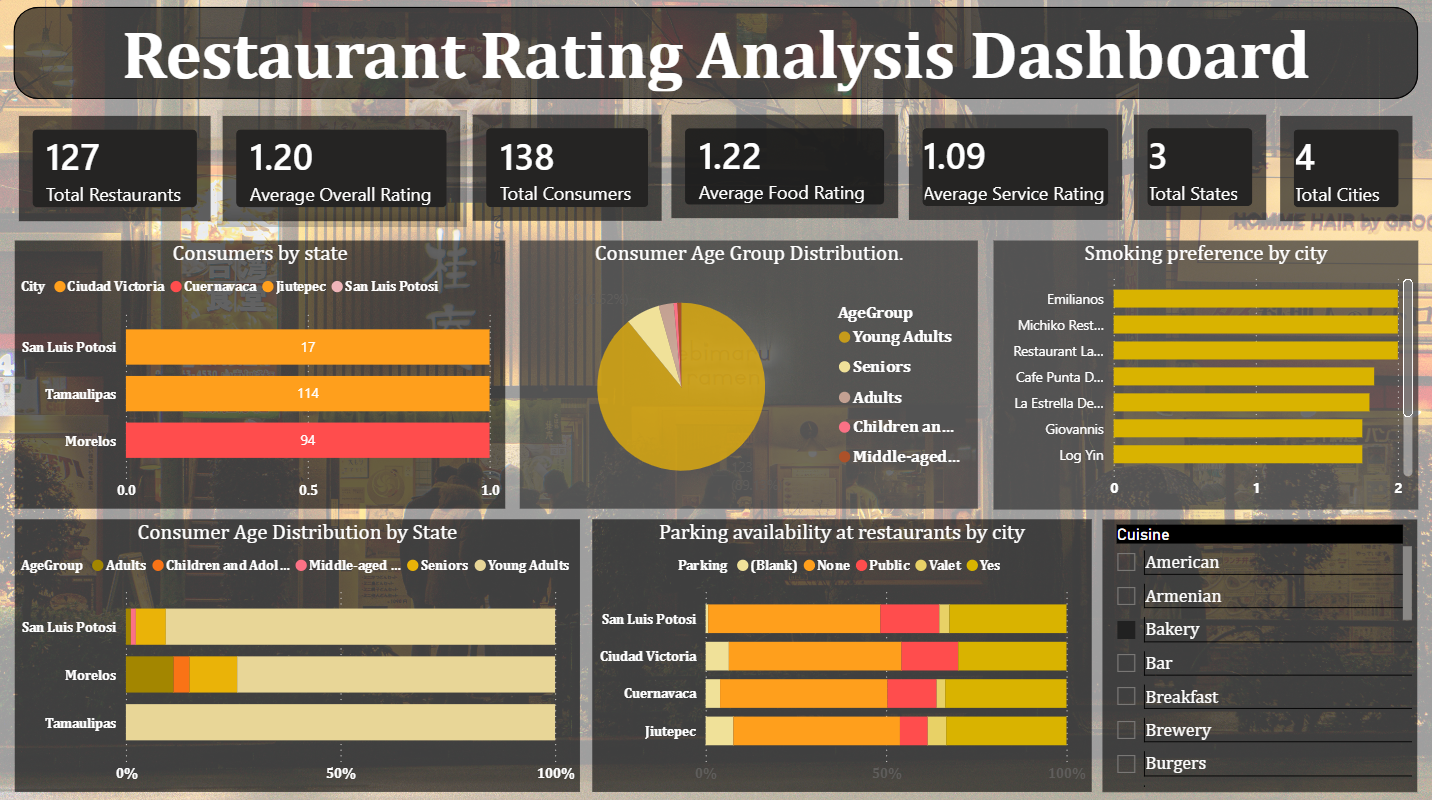

What the dashboard file says about the page in this screenshot:
{"tool":"powerbi","page":{"name":"HOME","canvas":[1280,720],"ordinal":0},"visuals":[{"type":"barChart","title":"Consumers by state","fields":{"Category":["restaurants.State"],"Series":["consumers.City"],"Y":["CountNonNull(ratings.Consumer_ID)"]},"box":[16.2,220,436.2,238.8],"z":0},{"type":"hundredPercentStackedBarChart","title":"Consumer Age Distribution by State","fields":{"Category":["consumers.State"],"Y":["CountNonNull(consumers.Consumer_ID)"],"Series":["consumers.AgeGroup"]},"box":[16.2,467.5,502.5,242.5],"z":1000},{"type":"pieChart","title":"Consumer Age Group Distribution.","fields":{"Category":["consumers.AgeGroup"],"Y":["CountNonNull(consumers.Consumer_ID)"]},"box":[465,220,407.5,238.8],"z":2000},{"type":"hundredPercentStackedBarChart","title":"Parking availability at restaurants by city","fields":{"Category":["consumers.City"],"Y":["CountNonNull(ratings.Restaurant_ID)"],"Series":["restaurants.Parking"]},"box":[530,467.5,443.8,242.5],"z":3000},{"type":"shape","box":[15.7,12.1,1248.7,82],"z":4000},{"type":"cardVisual","fields":{"Data":["restaurant_cuisines.Total Restaurants"]},"box":[15.7,105,181,103.8],"z":5000},{"type":"cardVisual","fields":{"Data":["consumer_preferences.Average Overall Rating"]},"box":[196.6,105,222,103.8],"z":6000},{"type":"cardVisual","fields":{"Data":["consumer_preferences.Average Food Rating"]},"box":[596,103.8,211.1,102.5],"z":7000},{"type":"cardVisual","fields":{"Data":["consumer_preferences.Average Service Rating"]},"box":[807.1,103.8,199.1,103.8],"z":8000},{"type":"cardVisual","fields":{"Data":["consumer_preferences.Total Consumers"]},"box":[418.6,103.8,178.6,105],"z":9000},{"type":"clusteredBarChart","title":"Smoking preference by city","fields":{"Category":["restaurants.Name"],"Y":["consumer_preferences.Average Overall Rating"]},"box":[886.7,219.6,377.6,238.9],"z":10000},{"type":"slicer","fields":{"Values":["restaurant_cuisines.Cuisine"]},"box":[983.8,467.5,280,242.5],"z":11000},{"type":"cardVisual","fields":{"Data":["consumer_preferences.Total States"]},"box":[1006.2,103.8,127.9,103.8],"z":12000},{"type":"cardVisual","fields":{"Data":["consumer_preferences.Total Cities"]},"box":[1136.5,105,127.9,103.8],"z":13000}]}

Visuals, with their boxes in screenshot pixels (x1, y1, x2, y2), scaled from the page's 1280x720 canvas onto the 1432x800 screenshot:
"Consumers by state" barChart: detection(18, 244, 506, 510)
"Consumer Age Distribution by State" hundredPercentStackedBarChart: detection(18, 519, 580, 789)
"Consumer Age Group Distribution." pieChart: detection(520, 244, 976, 510)
"Parking availability at restaurants by city" hundredPercentStackedBarChart: detection(593, 519, 1089, 789)
shape: detection(18, 13, 1415, 105)
cardVisual - restaurant_cuisines.Total Restaurants: detection(18, 117, 220, 232)
cardVisual - consumer_preferences.Average Overall Rating: detection(220, 117, 468, 232)
cardVisual - consumer_preferences.Average Food Rating: detection(667, 115, 903, 229)
cardVisual - consumer_preferences.Average Service Rating: detection(903, 115, 1126, 231)
cardVisual - consumer_preferences.Total Consumers: detection(468, 115, 668, 232)
"Smoking preference by city" clusteredBarChart: detection(992, 244, 1414, 509)
slicer - restaurant_cuisines.Cuisine: detection(1101, 519, 1414, 789)
cardVisual - consumer_preferences.Total States: detection(1126, 115, 1269, 231)
cardVisual - consumer_preferences.Total Cities: detection(1271, 117, 1415, 232)
